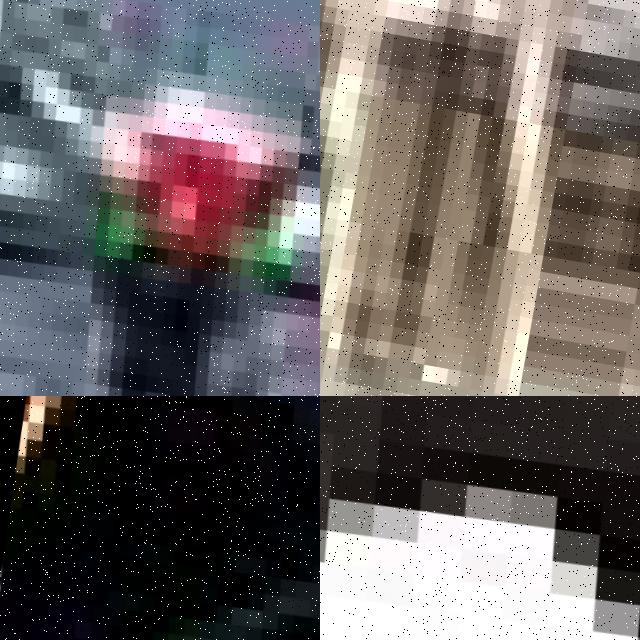0: (0, 0, 320, 396)
drone: (0, 396, 320, 640), (320, 396, 640, 640)
